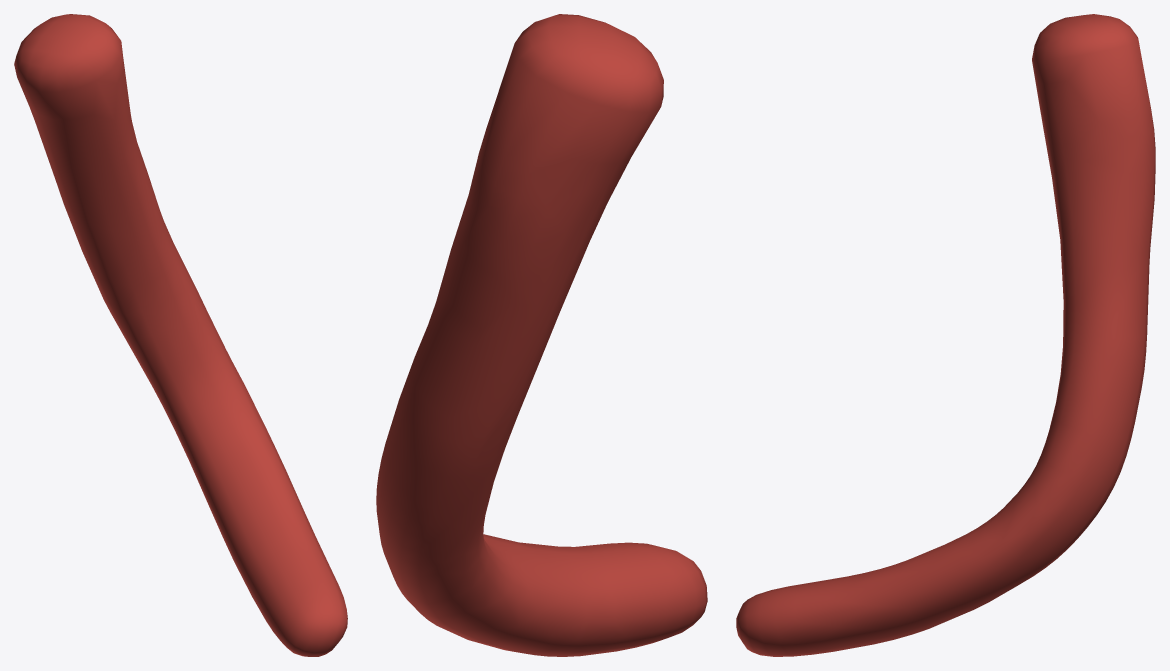
Rendered from musculos-tendon-sheath-of-flexor-hallucis-longus-r.glb.
3 views of the same model, side by side, from view 1: azimuth 30°, elevation 25°; view 2: azimuth 150°, elevation 25°; view 3: azimuth 270°, elevation 25° (orthographic). The views are drawn at different scales.
Parts seen in each view (by area): view 1: Tendon sheath of flexor hallucis longus.r; view 2: Tendon sheath of flexor hallucis longus.r; view 3: Tendon sheath of flexor hallucis longus.r.
Part boxes in pixels (box(x1,y1,x2,y2)): Tendon sheath of flexor hallucis longus.r: box(14, 14, 347, 656); Tendon sheath of flexor hallucis longus.r: box(376, 14, 707, 656); Tendon sheath of flexor hallucis longus.r: box(736, 14, 1155, 656).
Bounding box in the file's own units: 0.0203 × 0.0505 × 0.0328.
